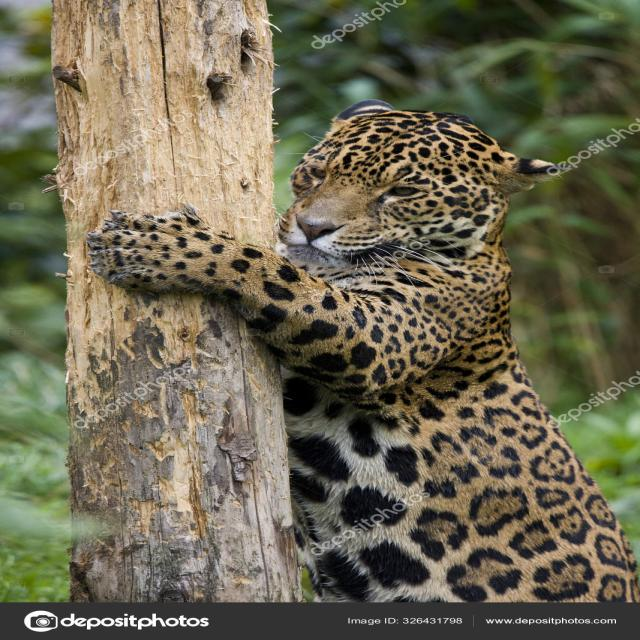Jaguar: (92, 93, 640, 602)
